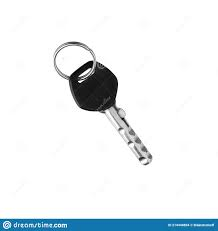key: (62, 61, 162, 174)
